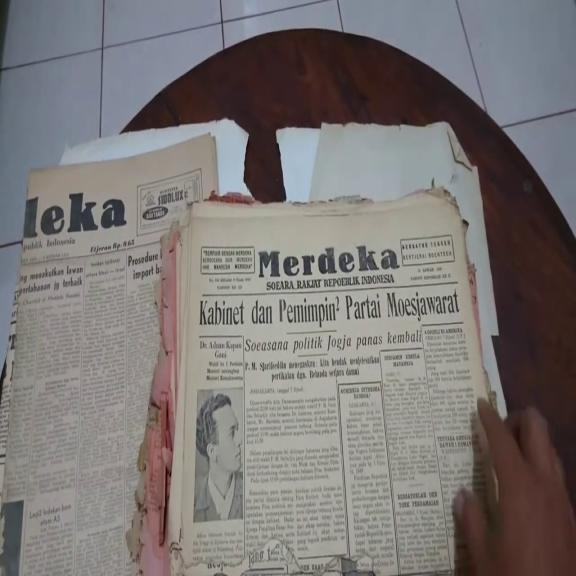Kertas: (166, 184, 494, 572), (28, 168, 219, 576)
